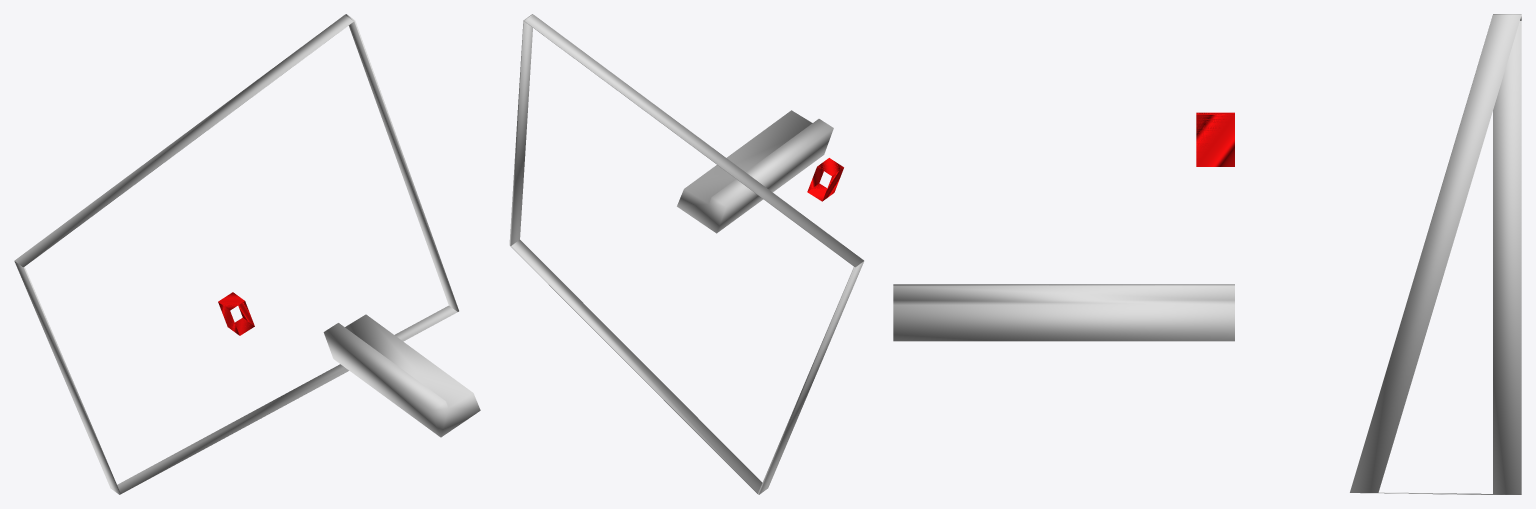
Rendered from mygia2.obj.
3 renders of one model, left to right at view 1: azimuth 30°, elevation 25°; view 2: azimuth 150°, elevation 25°; view 3: azimuth 270°, elevation 25°, orthographic. The views are drawn at different scales.
Visible parts, largest first — view 1: MvBlockRef__IFCBUILDINGELEMENTPROXY__1___Body, MvBlockRef__IFCBUILDINGELEMENTPROXY__5___Body, MvBlockRef__IFCBUILDINGELEMENTPROXY__3___Body, MvBlockRef__IFCBUILDINGELEMENTPROXY__2___Body, MvBlockRef__IFCBUILDINGELEMENTPROXY__4___Body; view 2: MvBlockRef__IFCBUILDINGELEMENTPROXY__1___Body, MvBlockRef__IFCBUILDINGELEMENTPROXY__5___Body, MvBlockRef__IFCBUILDINGELEMENTPROXY__3___Body, MvBlockRef__IFCBUILDINGELEMENTPROXY__2___Body, MvBlockRef__IFCBUILDINGELEMENTPROXY__4___Body; view 3: MvBlockRef__IFCBUILDINGELEMENTPROXY__1___Body, MvBlockRef__IFCBUILDINGELEMENTPROXY__2___Body, MvBlockRef__IFCBUILDINGELEMENTPROXY__4___Body, MvBlockRef__IFCBUILDINGELEMENTPROXY__7___IFCBLOCK__8_.
Part boxes in pixels (<box>): MvBlockRef__IFCBUILDINGELEMENTPROXY__1___Body: <box>323,314,480,437</box>; MvBlockRef__IFCBUILDINGELEMENTPROXY__5___Body: <box>14,15,353,267</box>; MvBlockRef__IFCBUILDINGELEMENTPROXY__3___Body: <box>117,305,457,494</box>; MvBlockRef__IFCBUILDINGELEMENTPROXY__2___Body: <box>345,14,458,311</box>; MvBlockRef__IFCBUILDINGELEMENTPROXY__4___Body: <box>14,261,120,494</box>; MvBlockRef__IFCBUILDINGELEMENTPROXY__1___Body: <box>677,110,833,233</box>; MvBlockRef__IFCBUILDINGELEMENTPROXY__5___Body: <box>524,15,863,267</box>; MvBlockRef__IFCBUILDINGELEMENTPROXY__3___Body: <box>510,240,762,493</box>; MvBlockRef__IFCBUILDINGELEMENTPROXY__2___Body: <box>509,14,533,245</box>; MvBlockRef__IFCBUILDINGELEMENTPROXY__4___Body: <box>758,261,864,494</box>; MvBlockRef__IFCBUILDINGELEMENTPROXY__1___Body: <box>893,284,1234,341</box>; MvBlockRef__IFCBUILDINGELEMENTPROXY__2___Body: <box>1349,14,1521,492</box>; MvBlockRef__IFCBUILDINGELEMENTPROXY__4___Body: <box>1493,21,1521,494</box>; MvBlockRef__IFCBUILDINGELEMENTPROXY__7___IFCBLOCK__8_: <box>1196,115,1234,166</box>.
Size of the model in its own units: 250 by 255 by 219.
